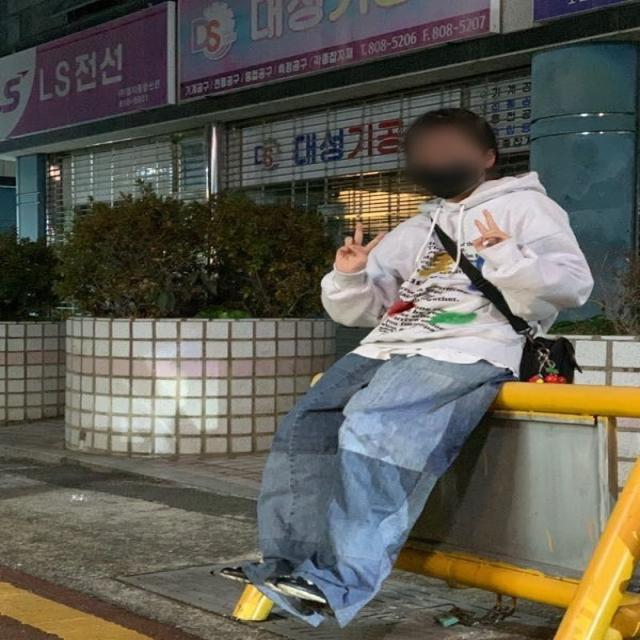denimpants: (259, 344, 517, 629)
hoodies: (319, 170, 593, 377)
